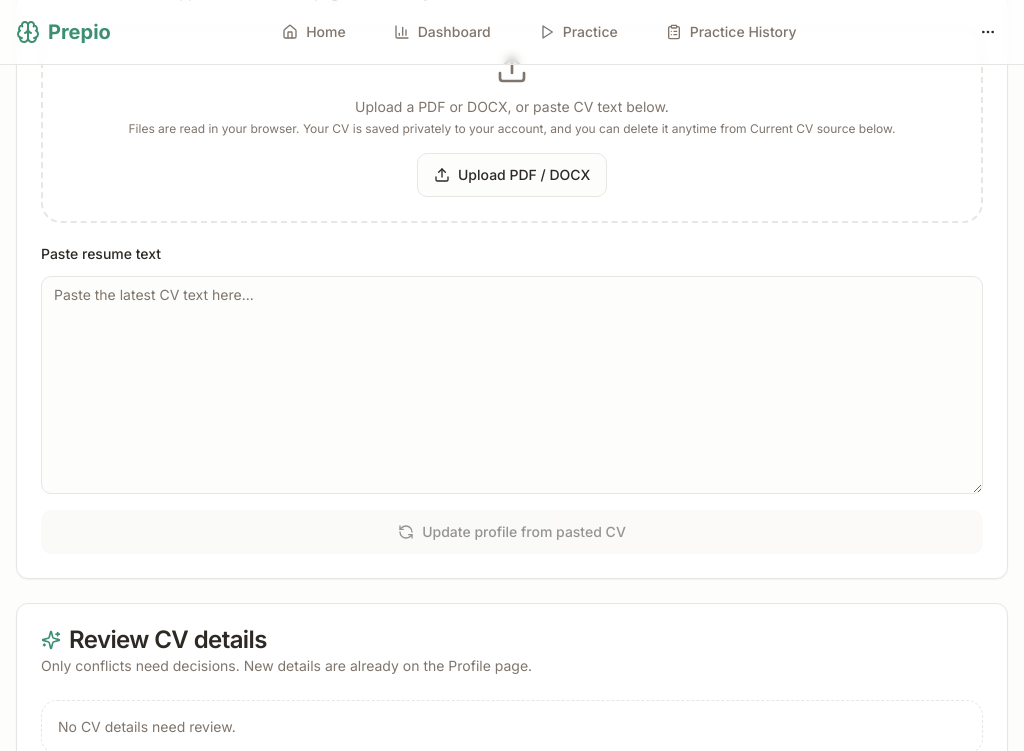
Scenario: Profile page › keeps conflicting CV details pending for review after auto-fill
(page scrolled)
Type "Imported resume text" into the text box labelled "Paste resume text". click: x=512, y=385
box: left=41, top=276, right=983, bottom=494
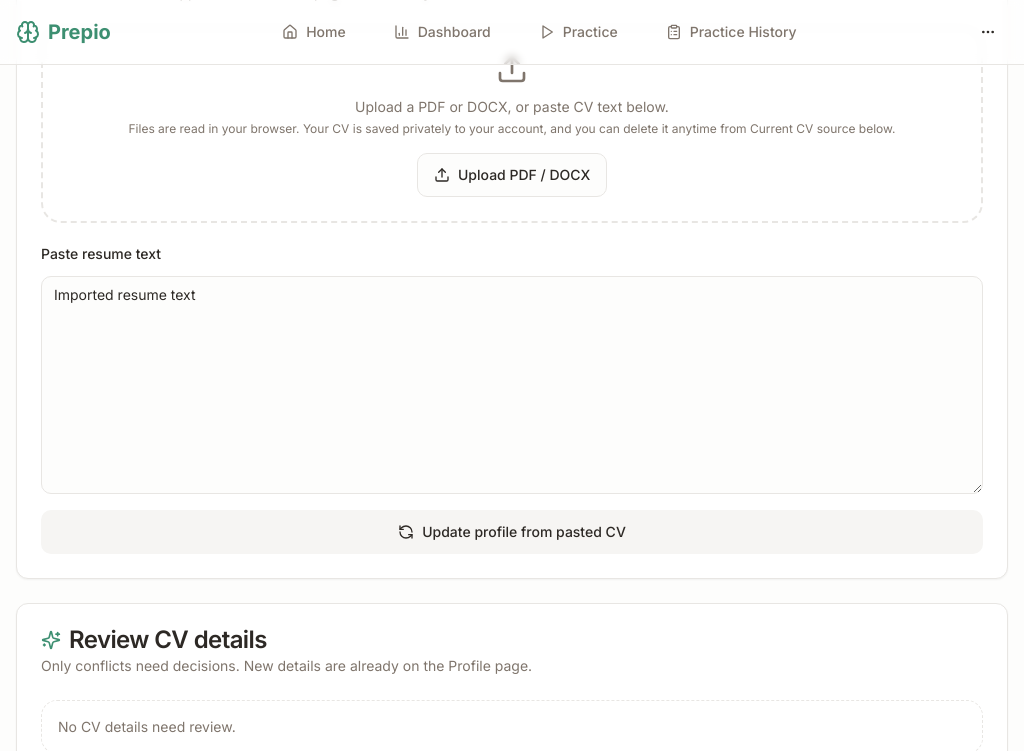
Click the button "Update profile from pasted CV". click: x=512, y=532
box: left=41, top=510, right=983, bottom=554
(page scrolled)
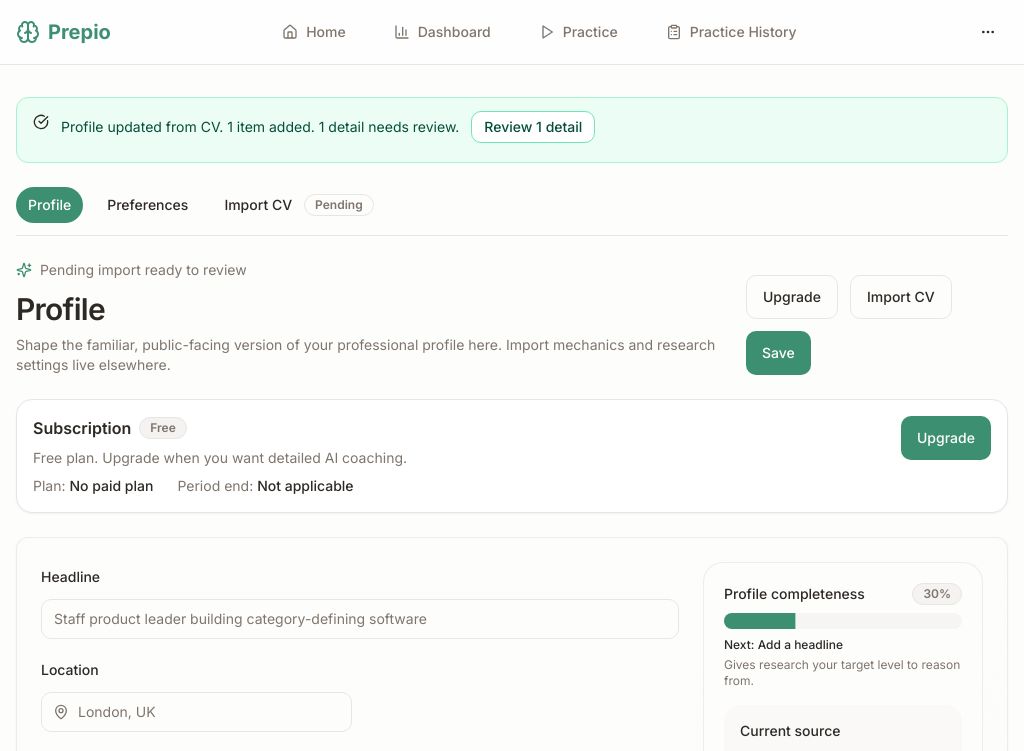
Expected: the text "Profile updated from CV. 1 item added. 1 detail needs review." is shown, left=61, top=117, right=459, bottom=137
Expected: the link "Review 1 detail" is shown, left=471, top=111, right=595, bottom=143
